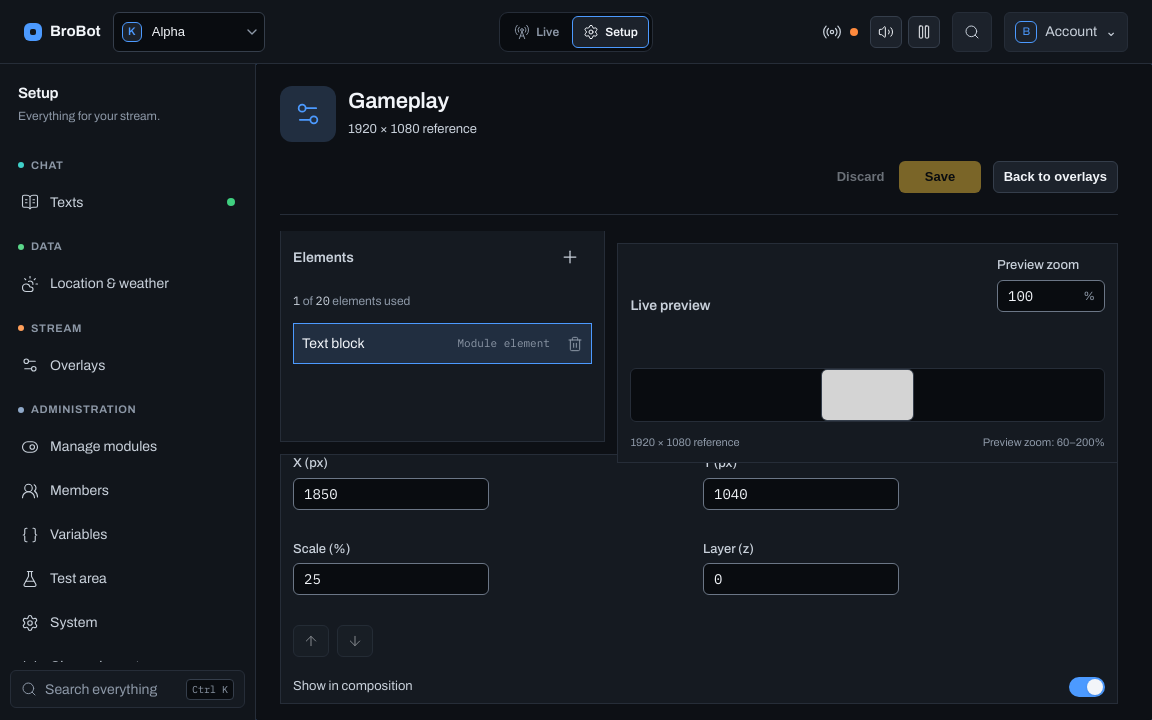
Test: Overlay composition editor › scales the unscaled default size for unmeasured elements when the user changes scale
(page scrolled)
Expected: the heading "Gameplay" is shown, [348,88,449,116]
Replace the text in the number field labelled "Scale (%)" with "50": (391, 579) [293,563,489,595]
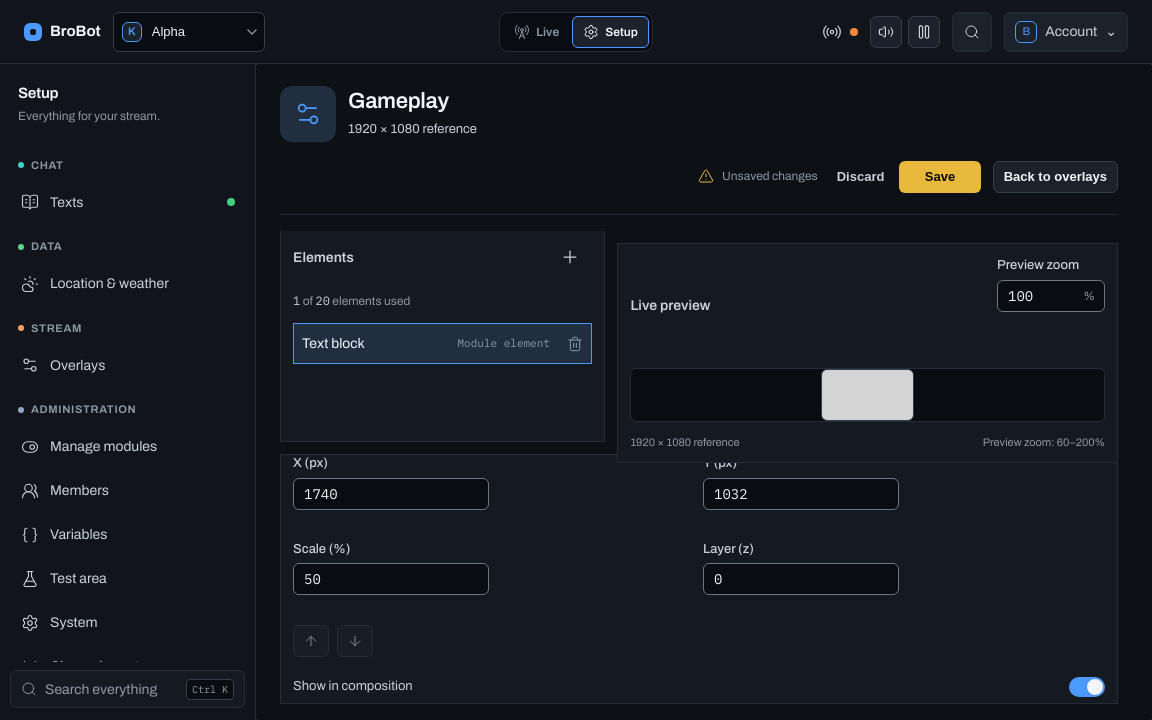
Result: the number field labelled "X (px)" holds "1740" at [293,478,489,510]
Result: the number field labelled "Y (px)" holds "1032" at [703,478,899,510]
